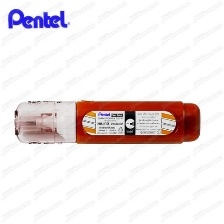correction_fluid: (10, 98, 203, 148)
